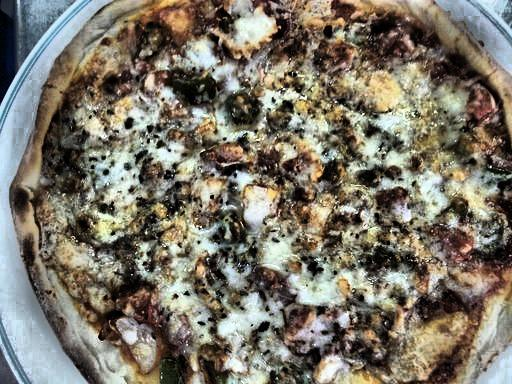pizza: (37, 1, 512, 384)
